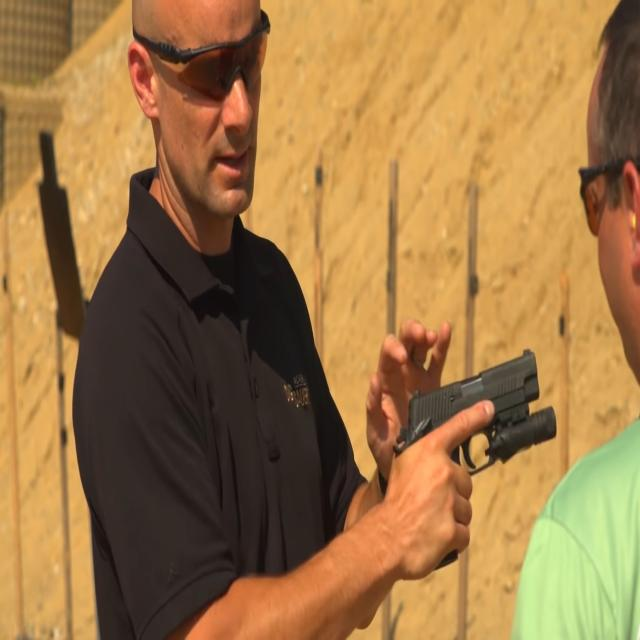Gun_Holder: (399, 335, 573, 565)
Person: (75, 4, 486, 640)
